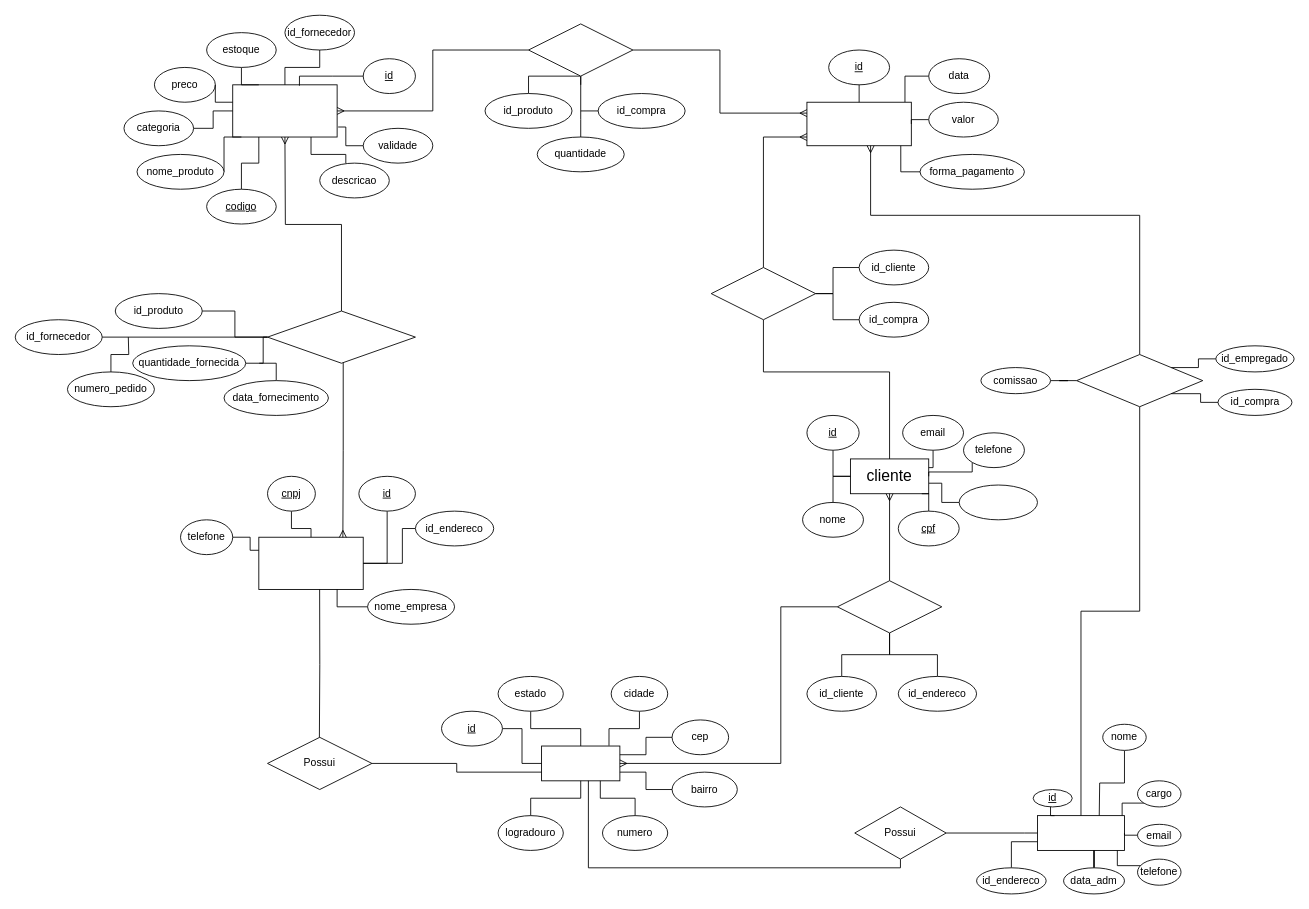
The diagram is 1309 pixels wide and 909 high, and some of its shapes have lost their labels. Here are the shapes that lost their labels. From the top down, the box of each, then its label:
(528, 23, 633, 76): compra_produto
(232, 84, 337, 137): produto
(806, 101, 911, 146): compra
(710, 267, 816, 320): cliente_compra
(267, 310, 415, 363): fornecedor_produto
(1076, 354, 1203, 407): empregado_compra
(958, 484, 1037, 520): data_cadastro
(258, 536, 363, 589): fornecedor
(837, 580, 942, 633): cliente_endereco
(541, 745, 620, 781): endereco
(1037, 815, 1124, 850): Empregado
